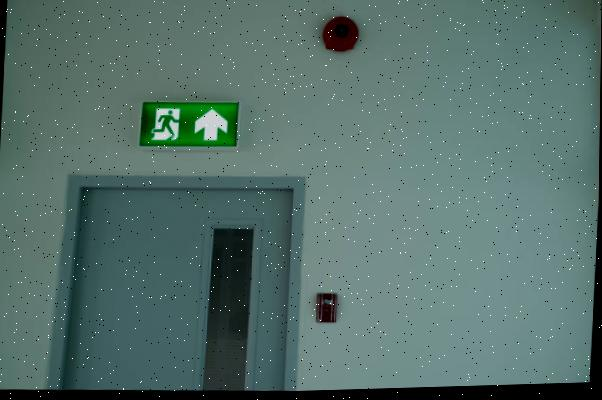emergency_exit: (139, 100, 239, 148)
